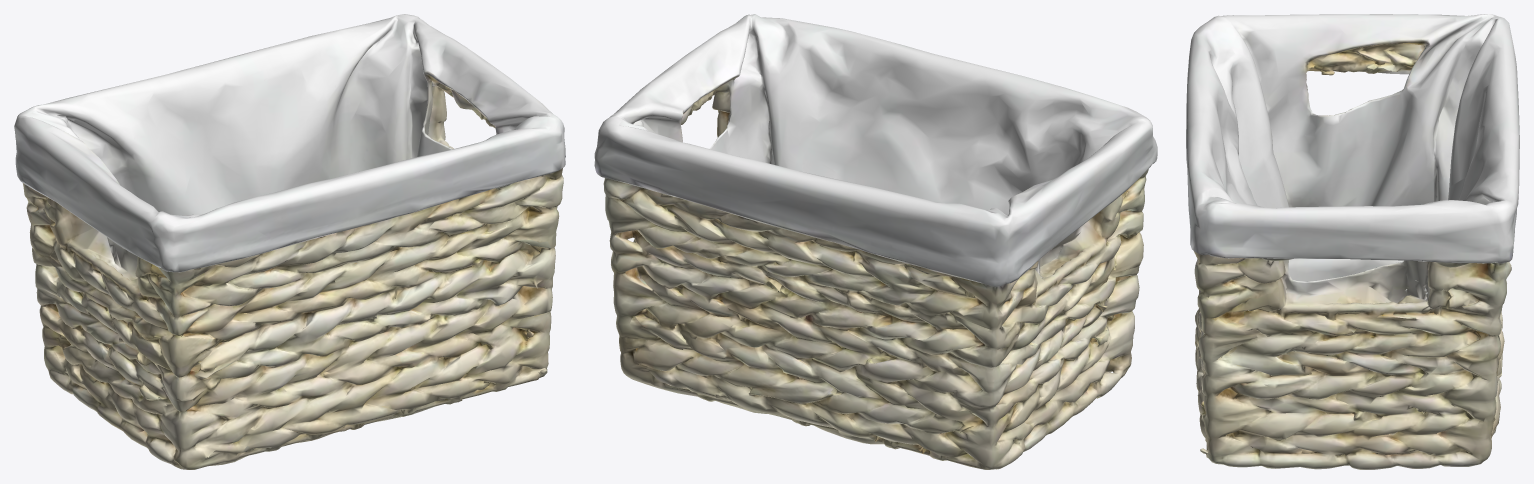
Rendered from gso-basket.glb.
The picture shows the model from 3 angles, left to right: view 1: azimuth 30°, elevation 25°; view 2: azimuth 150°, elevation 25°; view 3: azimuth 270°, elevation 25°; orthographic projection.
Parts seen in each view (by area): view 1: Threshold_Basket_Natural_Finish_Fabric_Liner_Small; view 2: Threshold_Basket_Natural_Finish_Fabric_Liner_Small; view 3: Threshold_Basket_Natural_Finish_Fabric_Liner_Small.
Boxes of the visible parts, <box> form: Threshold_Basket_Natural_Finish_Fabric_Liner_Small: <box>14,14,565,469</box>; Threshold_Basket_Natural_Finish_Fabric_Liner_Small: <box>594,14,1157,469</box>; Threshold_Basket_Natural_Finish_Fabric_Liner_Small: <box>1186,14,1519,469</box>.
Bounding box in the file's own units: 0.2392 × 0.1476 × 0.1622.
1 material, 1 textured.
